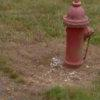Hydrant: (59, 2, 96, 73)
